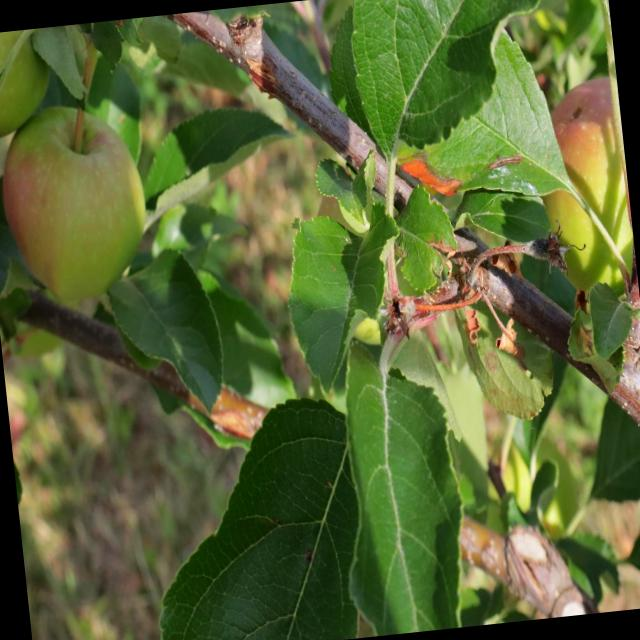-FireBlight-: (398, 247, 574, 339)
